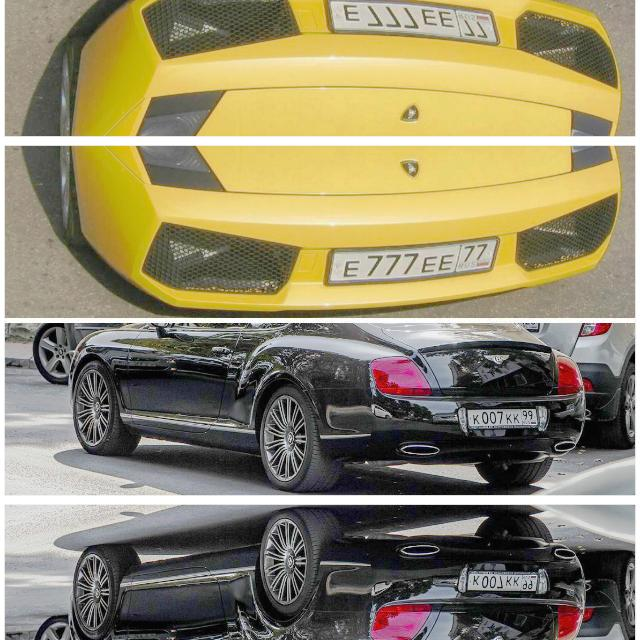citizen: (322, 233, 500, 287), (321, 0, 500, 47), (462, 404, 542, 430), (462, 570, 542, 594)
